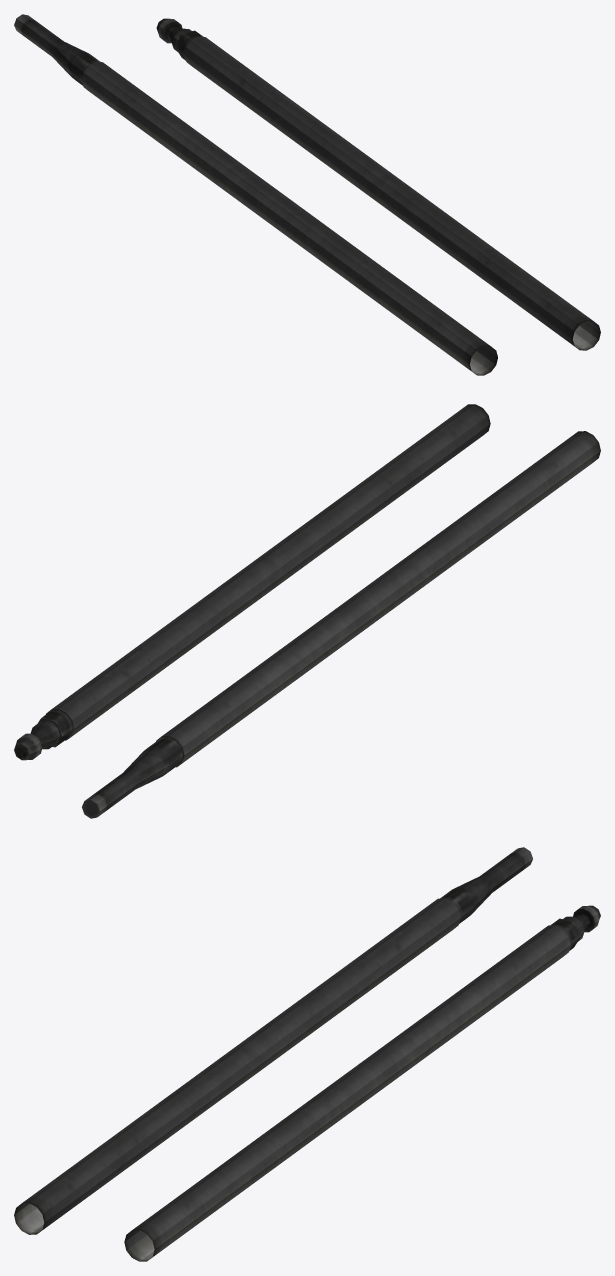
3 views of the same model, one above another, from view 1: azimuth 30°, elevation 25°; view 2: azimuth 150°, elevation 25°; view 3: azimuth 330°, elevation 25° (orthographic). The views are drawn at different scales.
Parts seen in each view (by area): view 1: TW_6718817435e3cfd9550d2c27_PZ_Import; view 2: TW_6718817435e3cfd9550d2c27_PZ_Import; view 3: TW_6718817435e3cfd9550d2c27_PZ_Import.
Boxes of the visible parts, <box> form: TW_6718817435e3cfd9550d2c27_PZ_Import: <box>14,14,600,375</box>; TW_6718817435e3cfd9550d2c27_PZ_Import: <box>14,404,600,818</box>; TW_6718817435e3cfd9550d2c27_PZ_Import: <box>14,847,600,1261</box>.
Bounding box in the file's own units: 0.0272 × 0.1659 × 0.00587.
1 material, 1 textured.
